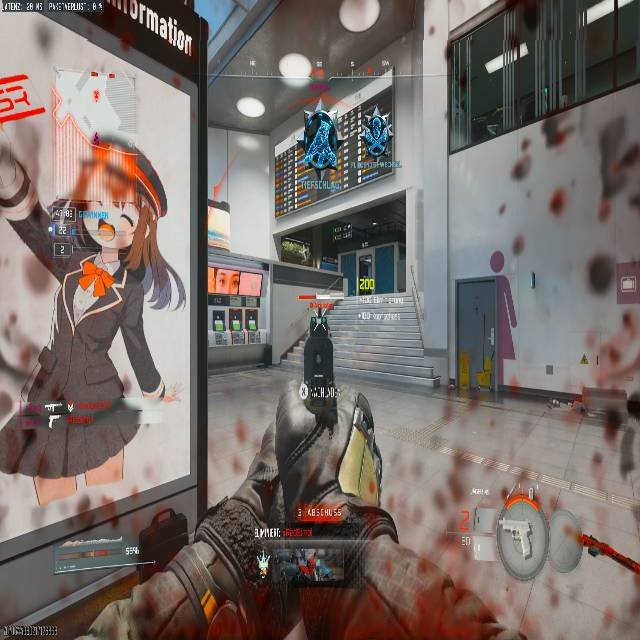player: (0, 56, 176, 522), (490, 97, 637, 388)
